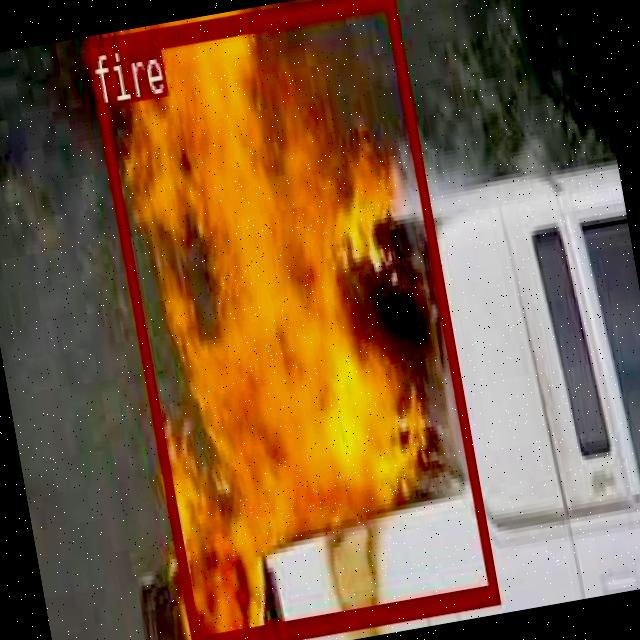fire: (84, 0, 497, 640)
